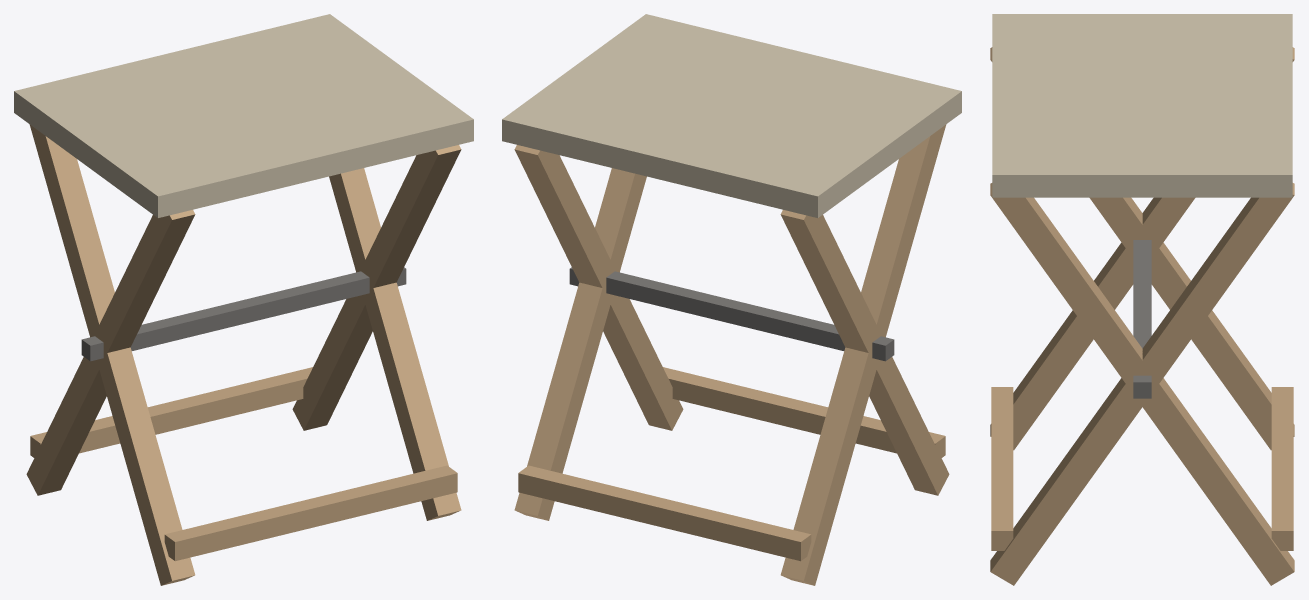
The model's file is prop-camp-stool.fbx.
The picture shows the model from 3 angles, left to right: view 1: azimuth 30°, elevation 25°; view 2: azimuth 150°, elevation 25°; view 3: azimuth 270°, elevation 25°; orthographic projection. The views are drawn at different scales.
Parts seen in each view (by area): view 1: prop-camp-stool; view 2: prop-camp-stool; view 3: prop-camp-stool.
Boxes of the visible parts, x1,y1,x2,y2 form: prop-camp-stool: [14, 14, 473, 585]; prop-camp-stool: [502, 14, 961, 585]; prop-camp-stool: [990, 14, 1294, 585].
Bounding box in the file's own units: 0.38 × 0.4601 × 0.3035.
